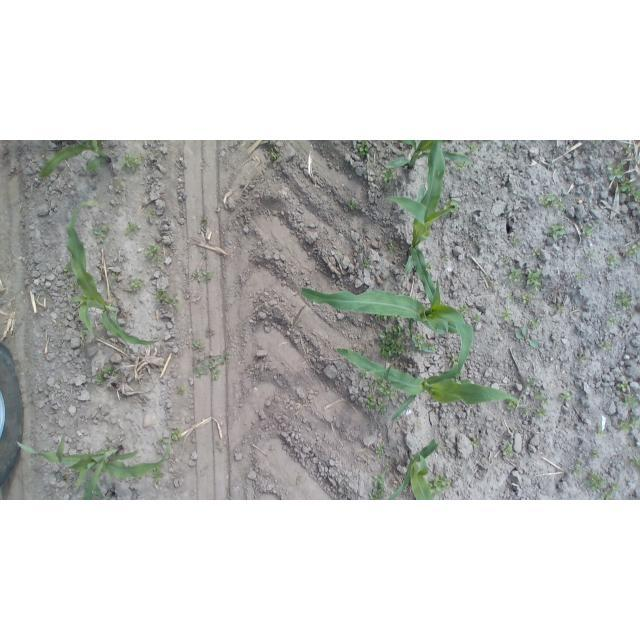Maize: (328, 318, 521, 424), (64, 197, 164, 352), (297, 280, 487, 347), (390, 143, 451, 313), (14, 441, 178, 500), (386, 438, 447, 500), (40, 140, 114, 180), (375, 142, 472, 166)
Weeds: (190, 339, 230, 382), (605, 162, 640, 202), (365, 379, 395, 415), (380, 328, 409, 360), (151, 284, 182, 313), (514, 325, 540, 350), (367, 473, 389, 500), (188, 268, 217, 288), (427, 474, 454, 495), (96, 362, 120, 385), (143, 243, 166, 264), (414, 330, 435, 352), (598, 482, 623, 500), (541, 192, 562, 213), (619, 414, 639, 434), (122, 155, 143, 174), (613, 291, 632, 312), (380, 165, 397, 188), (525, 269, 543, 290), (548, 223, 569, 241), (443, 196, 459, 219), (584, 473, 604, 491), (376, 312, 405, 324), (92, 223, 111, 241), (498, 442, 517, 459), (385, 238, 400, 259), (506, 393, 521, 413), (447, 157, 468, 171), (605, 252, 619, 273), (622, 393, 639, 410), (170, 426, 187, 443), (356, 141, 373, 158), (621, 244, 638, 261), (122, 220, 140, 236), (149, 469, 168, 484), (602, 313, 618, 330), (506, 268, 523, 284), (374, 442, 389, 460), (559, 390, 575, 406), (143, 206, 158, 223), (130, 277, 147, 292), (105, 268, 123, 282), (340, 201, 360, 213), (266, 145, 280, 161), (617, 376, 630, 393), (535, 391, 550, 405), (511, 237, 525, 252), (577, 223, 592, 237), (465, 143, 480, 157), (574, 272, 589, 286), (571, 458, 582, 477), (552, 301, 565, 317), (527, 314, 540, 330), (525, 376, 539, 390), (501, 310, 516, 323), (362, 257, 375, 272), (64, 262, 79, 275), (77, 328, 90, 342), (588, 249, 602, 262), (71, 279, 83, 294), (588, 450, 601, 463), (534, 406, 547, 419), (521, 293, 535, 305), (601, 340, 614, 352), (456, 304, 465, 321), (505, 292, 517, 304), (158, 438, 170, 449), (469, 436, 479, 449), (449, 351, 459, 364), (631, 454, 640, 467), (524, 408, 533, 421), (175, 385, 185, 396), (472, 315, 481, 327), (596, 425, 605, 437), (533, 247, 541, 260), (578, 355, 586, 367), (500, 254, 508, 265)
